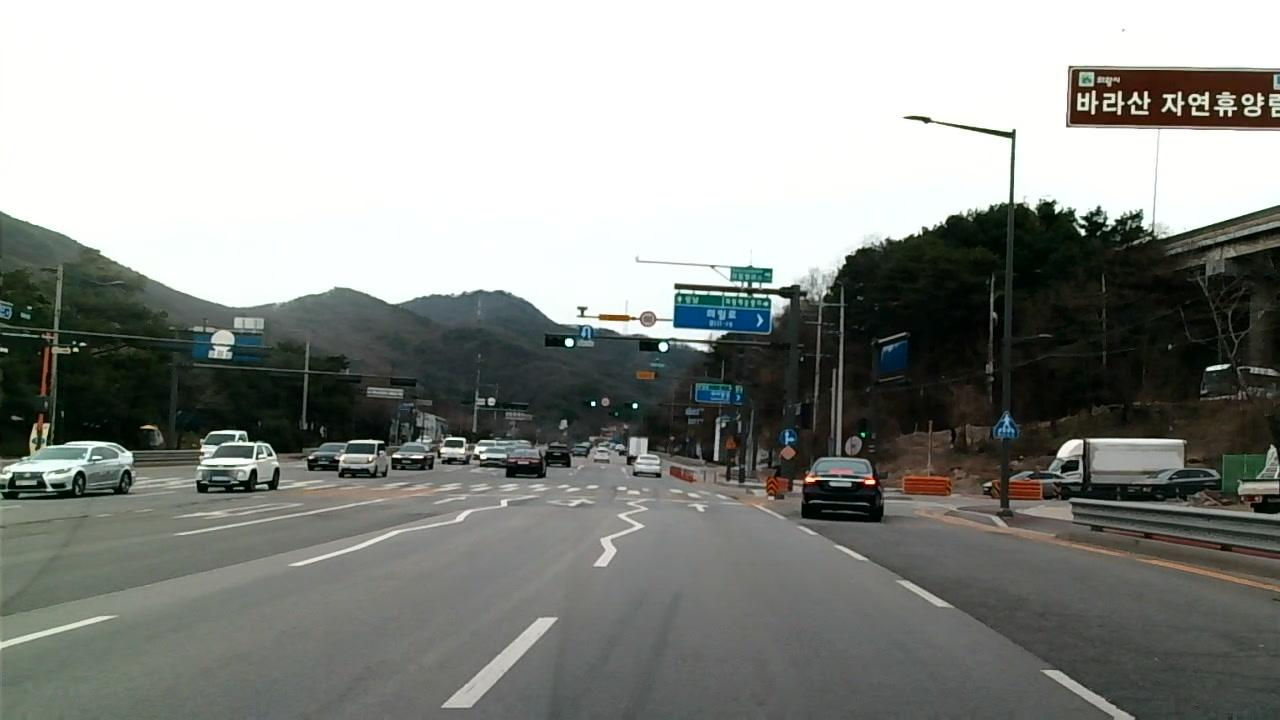erosion: (1002, 591, 1280, 720)
